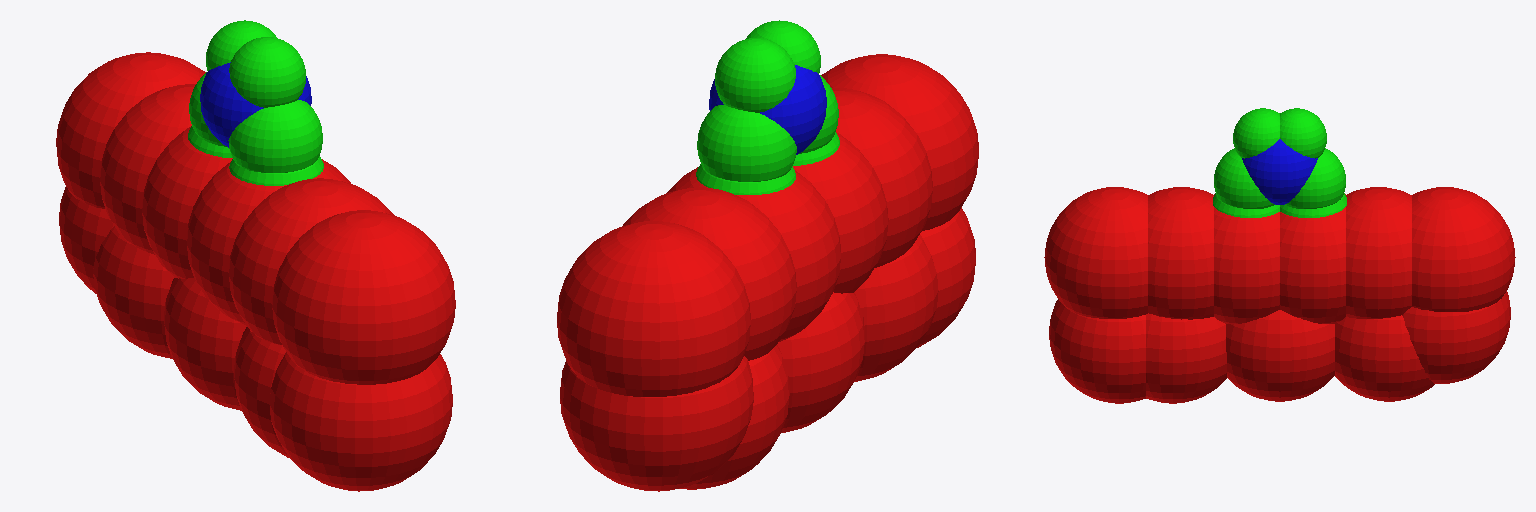
robot.urdf — hand:
<?xml version="1.0" encoding="utf-8"?>
<!-- =================================================================================== -->
<!-- |    This document was autogenerated by xacro from hand.urdf.xacro                | -->
<!-- |    EDITING THIS FILE BY HAND IS NOT RECOMMENDED                                 | -->
<!-- =================================================================================== -->
<robot name="hand">
  <material name="redtran">
    <color rgba=".9 .1 .1 0.3"/>
  </material>
  <material name="greentran">
    <color rgba=".1 .9 .1 0.3"/>
  </material>
  <material name="bluetran">
    <color rgba=".1 .1 .9 0.3"/>
  </material>
  <link name="panda_hand">
    <visual>
      <geometry>
        <mesh filename="package://franka_description/meshes/visual/hand.dae"/>
      </geometry>
    </visual>
    <visual>
      <origin xyz="0 -.077 .041"/>
      <geometry>
        <sphere radius="0.033"/>
      </geometry>
      <material name="redtran"/>
    </visual>
    <visual>
      <origin xyz="0 .075 .012"/>
      <geometry>
        <sphere radius="0.033"/>
      </geometry>
      <material name="redtran"/>
    </visual>
    <visual>
      <origin xyz="0 .077 .041"/>
      <geometry>
        <sphere radius="0.033"/>
      </geometry>
      <material name="redtran"/>
    </visual>
    <visual>
      <origin xyz="0 -.05 .002"/>
      <geometry>
        <sphere radius="0.033"/>
      </geometry>
      <material name="redtran"/>
    </visual>
    <visual>
      <origin xyz="0 -.046 .041"/>
      <geometry>
        <sphere radius="0.033"/>
      </geometry>
      <material name="redtran"/>
    </visual>
    <visual>
      <origin xyz="0 .046 .041"/>
      <geometry>
        <sphere radius="0.033"/>
      </geometry>
      <material name="redtran"/>
    </visual>
    <visual>
      <origin xyz="0 .016 .041"/>
      <geometry>
        <sphere radius="0.033"/>
      </geometry>
      <material name="redtran"/>
    </visual>
    <visual>
      <origin xyz="0 -.016 .041"/>
      <geometry>
        <sphere radius="0.033"/>
      </geometry>
      <material name="redtran"/>
    </visual>
    <visual>
      <origin xyz="0 -.075 .002"/>
      <geometry>
        <sphere radius="0.033"/>
      </geometry>
      <material name="redtran"/>
    </visual>
    <visual>
      <origin xyz="0 .051 .003"/>
      <geometry>
        <sphere radius="0.033"/>
      </geometry>
      <material name="redtran"/>
    </visual>
    <visual>
      <origin xyz="0 0 .003"/>
      <geometry>
        <sphere radius="0.033"/>
      </geometry>
      <material name="redtran"/>
    </visual>
  </link>
  <link name="panda_leftfinger">
    <visual>
      <geometry>
        <mesh filename="package://franka_description/meshes/visual/finger.dae"/>
      </geometry>
    </visual>
    <visual>
      <origin xyz="0 .014 .022"/>
      <geometry>
        <sphere radius="0.017"/>
      </geometry>
      <material name="greentran"/>
    </visual>
    <visual>
      <origin xyz="0 .015 .005"/>
      <geometry>
        <sphere radius="0.018"/>
      </geometry>
      <material name="greentran"/>
    </visual>
    <visual>
      <origin xyz="0 .008 .044"/>
      <geometry>
        <sphere radius="0.014"/>
      </geometry>
      <material name="greentran"/>
    </visual>
  </link>
  <link name="panda_rightfinger">
    <visual>
      <origin rpy="0 0 3.14159265359" xyz="0 0 0"/>
      <geometry>
        <mesh filename="package://franka_description/meshes/visual/finger.dae"/>
      </geometry>
    </visual>
    <visual>
      <origin xyz="0 -.014 .022"/>
      <geometry>
        <sphere radius="0.017"/>
      </geometry>
      <material name="greentran"/>
    </visual>
    <visual>
      <origin xyz="0 -.015 .005"/>
      <geometry>
        <sphere radius="0.018"/>
      </geometry>
      <material name="greentran"/>
    </visual>
    <visual>
      <origin xyz="0 -.008 .044"/>
      <geometry>
        <sphere radius="0.014"/>
      </geometry>
      <material name="greentran"/>
    </visual>
  </link>
  <link name="panda_hand_center">
    <visual>
      <origin xyz="0 0 0"/>
      <geometry>
        <sphere radius="0.02"/>
      </geometry>
      <material name="bluetran"/>
    </visual>
  </link>
  <joint name="panda_finger_joint1" type="prismatic">
    <parent link="panda_hand"/>
    <child link="panda_leftfinger"/>
    <origin rpy="0 0 0" xyz="0 0 0.0584"/>
    <axis xyz="0 1 0"/>
    <limit effort="20" lower="0.0" upper="0.04" velocity="0.2"/>
  </joint>
  <joint name="panda_finger_joint2" type="prismatic">
    <parent link="panda_hand"/>
    <child link="panda_rightfinger"/>
    <origin rpy="0 0 0" xyz="0 0 0.0584"/>
    <axis xyz="0 -1 0"/>
    <limit effort="20" lower="0.0" upper="0.04" velocity="0.2"/>
    <mimic joint="panda_finger_joint1"/>
  </joint>
  <joint name="panda_hand_center_joint" type="fixed">
    <parent link="panda_hand"/>
    <child link="panda_hand_center"/>
    <origin rpy="0 0 0" xyz="0 0 0.09"/>
  </joint>
</robot>

--- Render facts (derived) ---
Views: 3 orthographic renders of the robot side by side, from view 1: azimuth 30°, elevation 25°; view 2: azimuth 150°, elevation 25°; view 3: azimuth 270°, elevation 25°.
Robot: hand — 4 links, 3 joints (2 prismatic, 1 fixed); root link panda_hand; default pose: every joint at zero.
Links seen in each view (by area): view 1: panda_hand, panda_rightfinger, panda_leftfinger, panda_hand_center; view 2: panda_hand, panda_leftfinger, panda_rightfinger, panda_hand_center; view 3: panda_hand, panda_leftfinger, panda_rightfinger, panda_hand_center.
Boxes of the visible links, x1,y1,x2,y2 form: panda_hand: [56, 52, 455, 491]; panda_rightfinger: [228, 37, 323, 185]; panda_leftfinger: [188, 20, 276, 157]; panda_hand_center: [200, 62, 311, 147]; panda_hand: [557, 54, 978, 491]; panda_leftfinger: [696, 38, 796, 194]; panda_rightfinger: [746, 20, 839, 165]; panda_hand_center: [709, 65, 826, 154]; panda_hand: [1044, 187, 1515, 403]; panda_leftfinger: [1280, 108, 1346, 217]; panda_rightfinger: [1213, 108, 1279, 217]; panda_hand_center: [1242, 139, 1317, 204].
Size in the robot's own frame: 0.066 by 0.22 by 0.1474 metres.
0 mesh visuals loaded from 2 distinct referenced files (none loaded); not drawn: 3 (reference not matched to a file when rendering).
